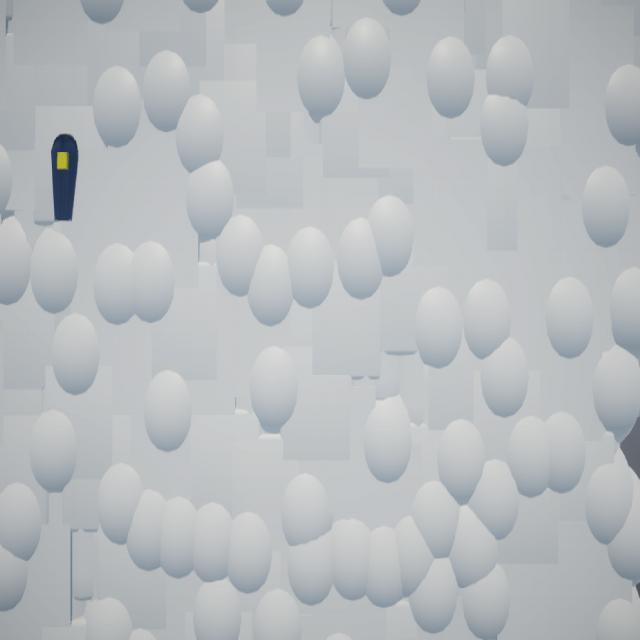handle_folk: (52, 134, 80, 223)
